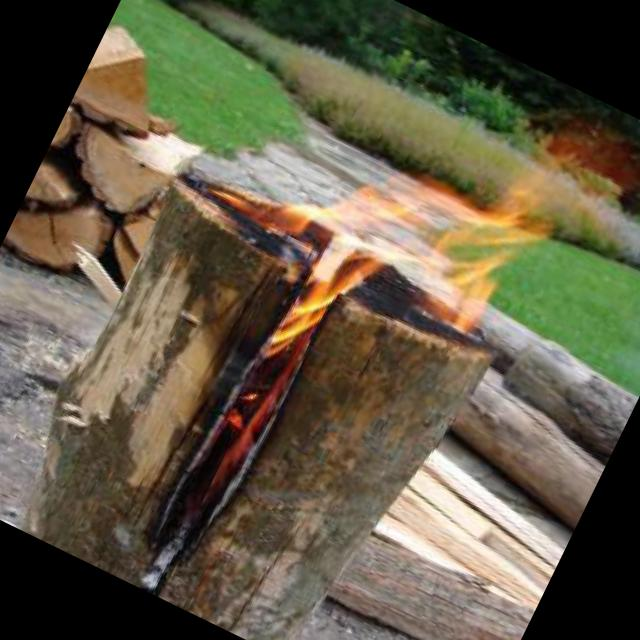fire: (149, 47, 566, 439)
